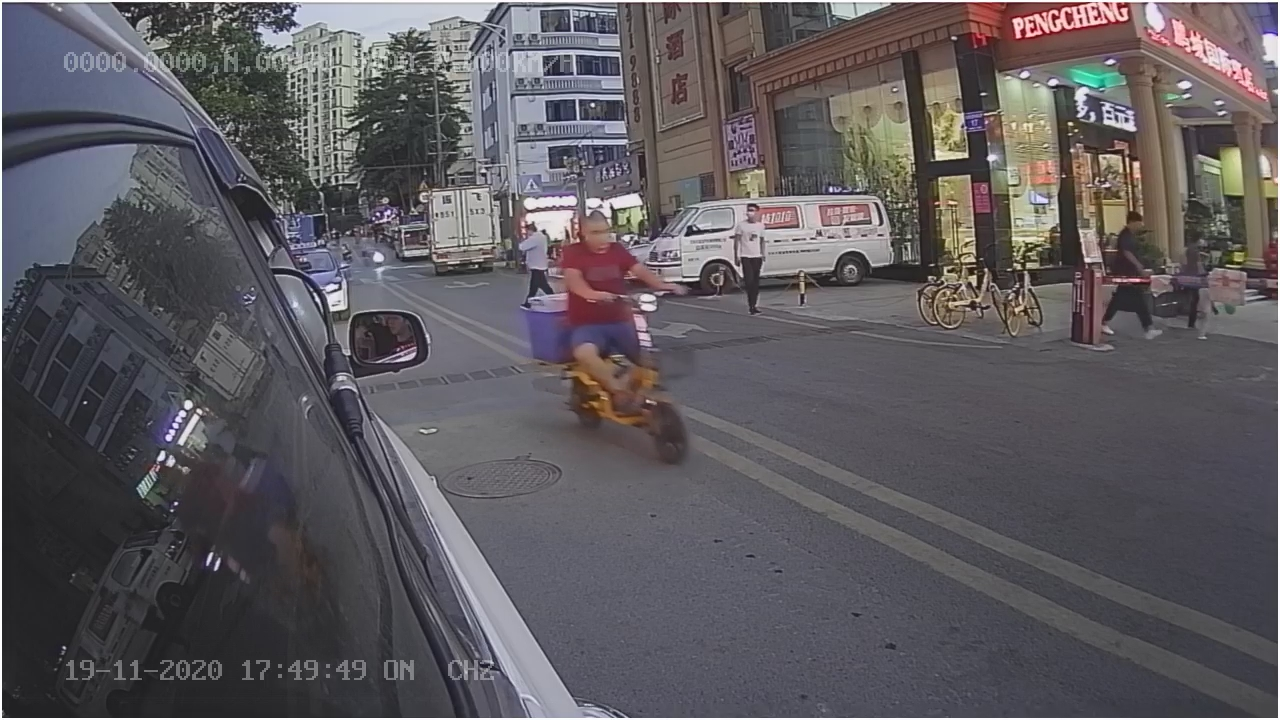person: (551, 213, 644, 323)
